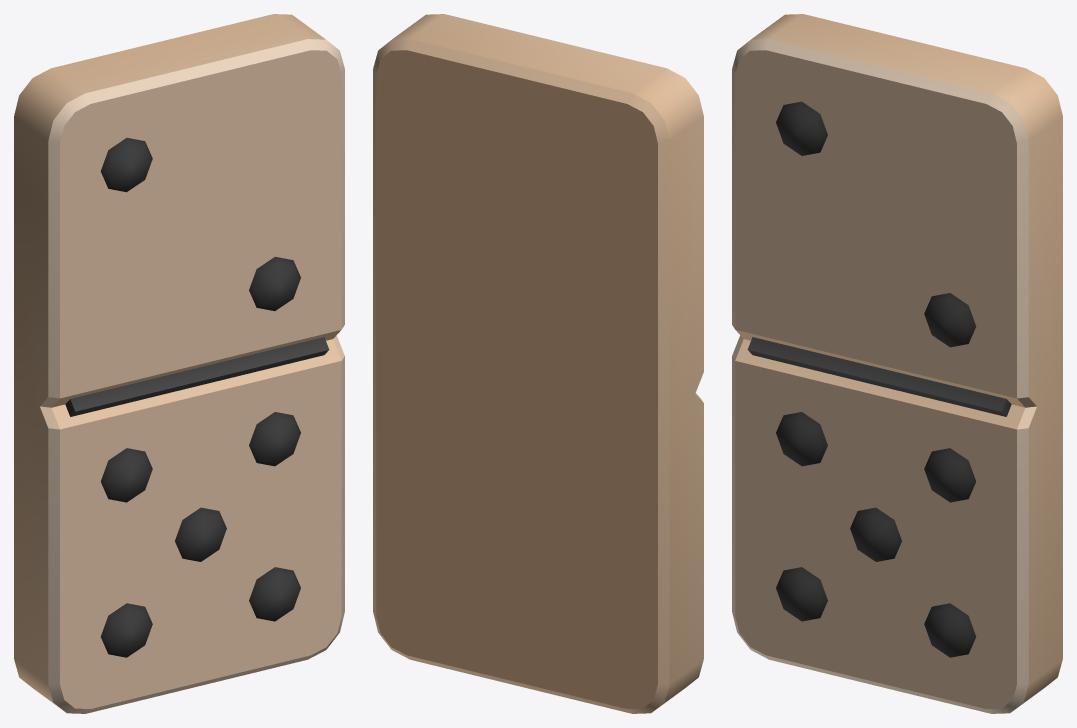
The model's file is KFB_Domino_2-5.r1.glb.
3 views of the same model, side by side, from view 1: azimuth 30°, elevation 25°; view 2: azimuth 150°, elevation 25°; view 3: azimuth 330°, elevation 25° (orthographic).
Visible parts, largest first — view 1: KFB_Domino_2-5; view 2: KFB_Domino_2-5; view 3: KFB_Domino_2-5.
Part boxes in pixels (<box>): KFB_Domino_2-5: <box>14,14,344,713</box>; KFB_Domino_2-5: <box>373,14,703,713</box>; KFB_Domino_2-5: <box>732,14,1062,713</box>.
Size of the model in its own units: 2.44 by 4.87 by 0.6739.
1 material, 1 textured.
